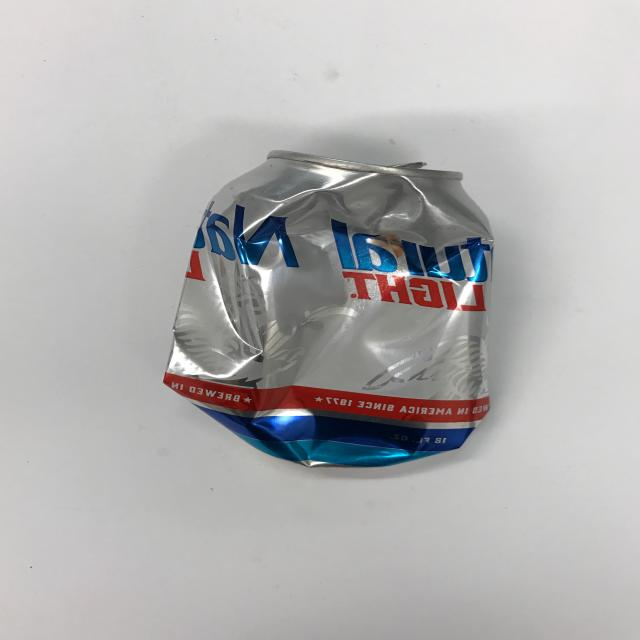metal: (162, 149, 495, 468)
